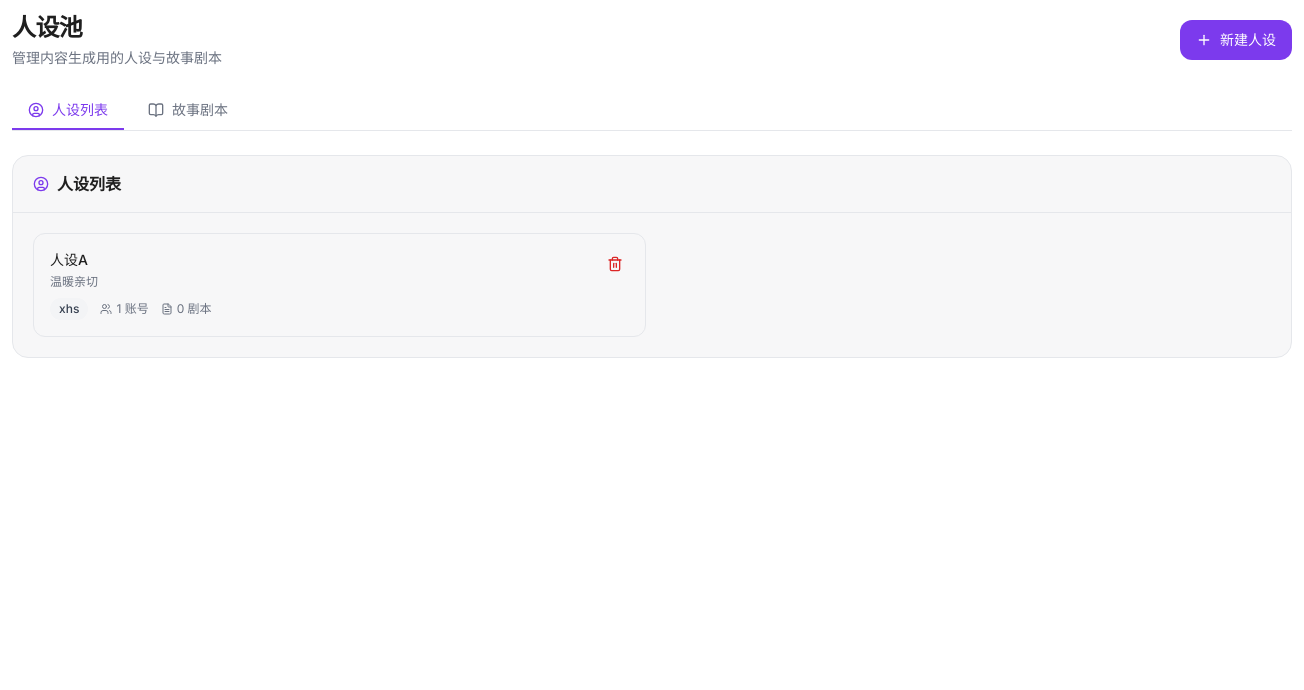
it: PersonasPage › opens newly created story automatically after creation
Click the button "故事剧本" at {"x": 188, "y": 111}, box 132,92 -> 244,130
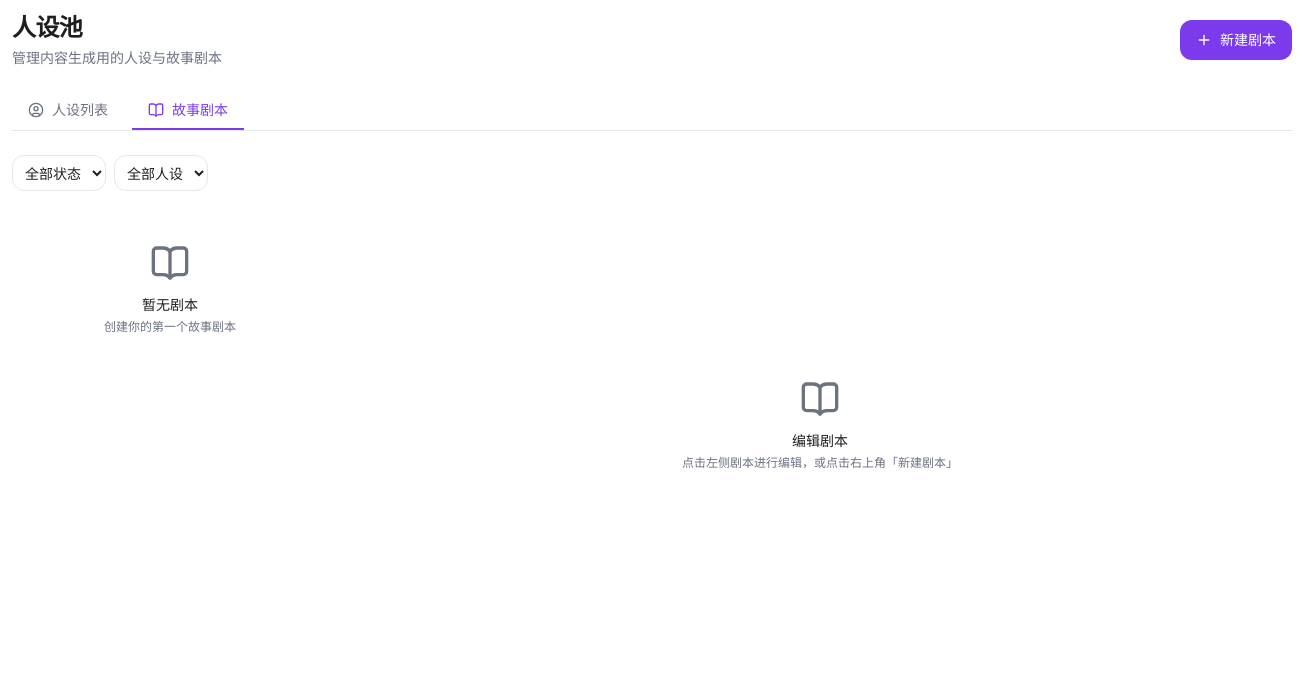
Click the button "新建剧本" at {"x": 1236, "y": 40}, box 1180,20 -> 1292,60
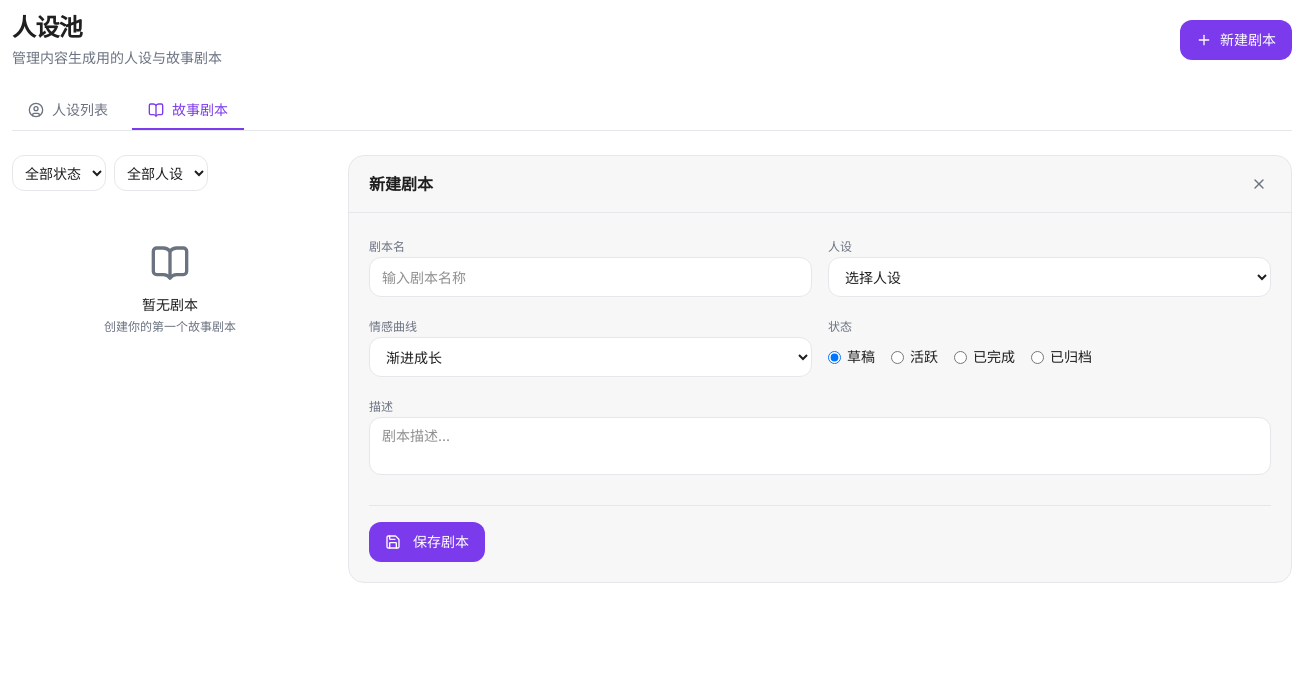
Fill form and save
Type "新剧本" into the field with placeholder "输入剧本名称" at {"x": 590, "y": 277}, box 369,257 -> 812,297
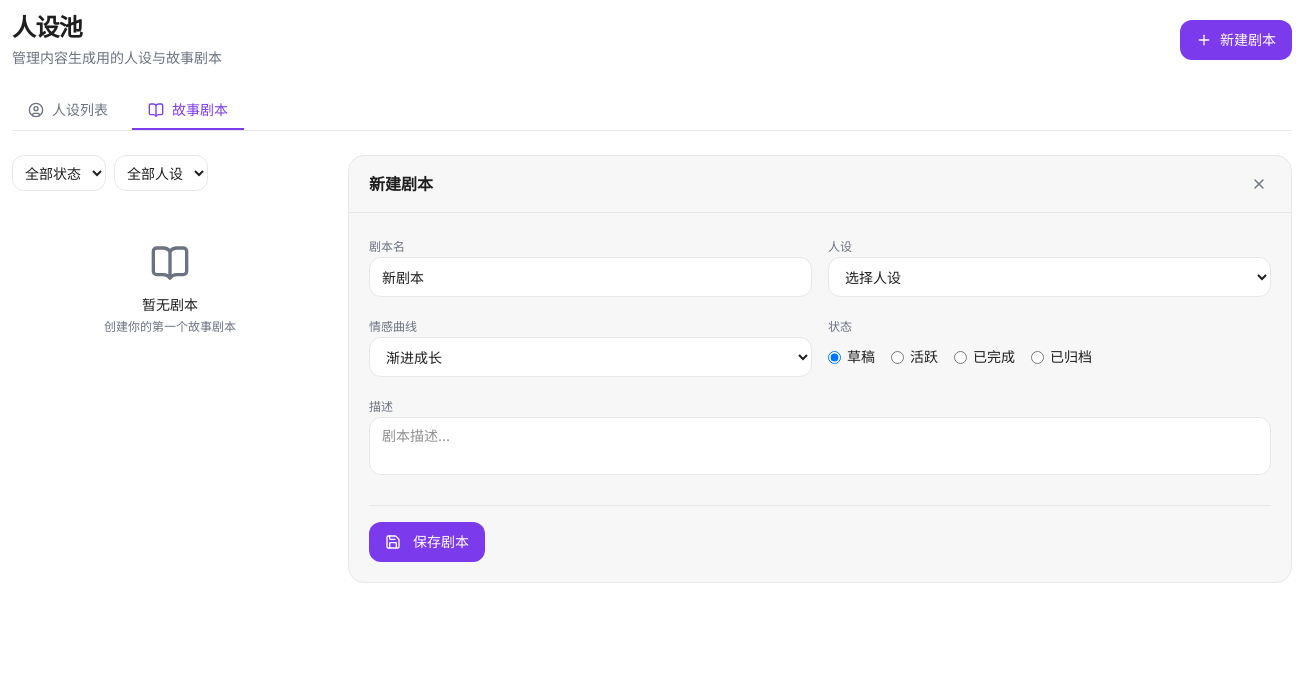
Select "人设A" in the 3rd dropdown showing "选择人设" at {"x": 1050, "y": 277}, box 828,257 -> 1271,297
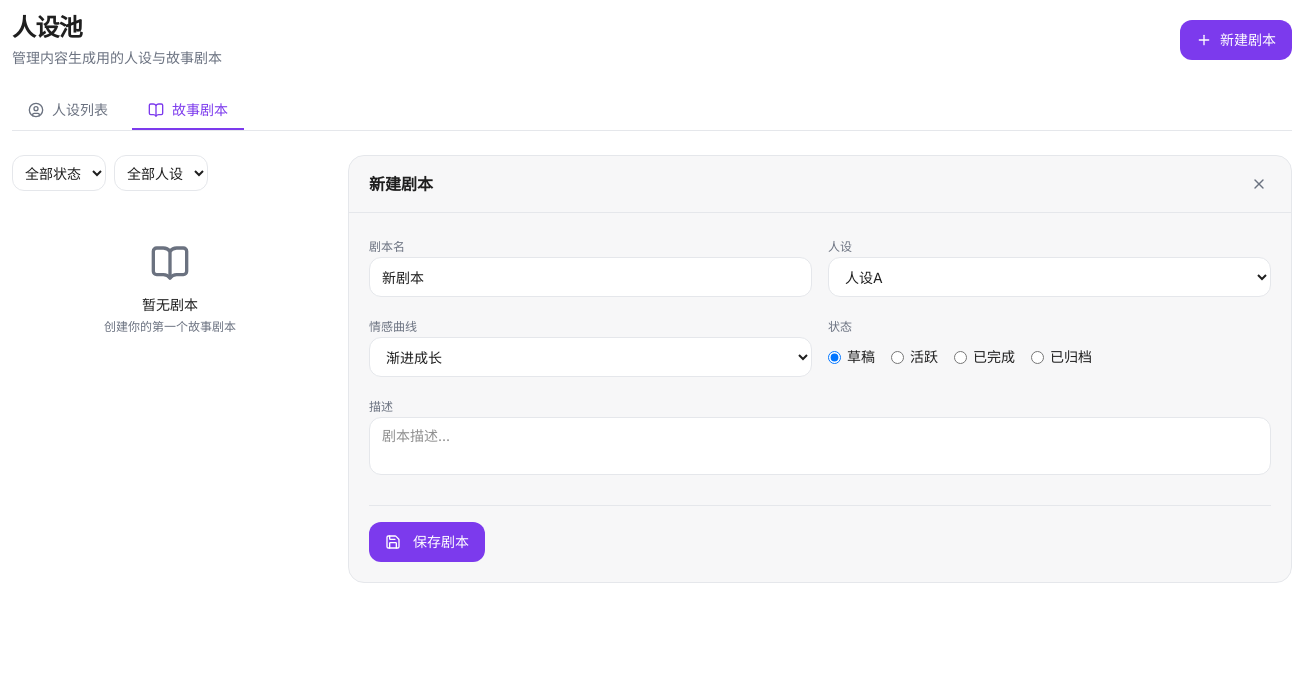
Click the button "保存剧本" at {"x": 427, "y": 542}, box 369,522 -> 485,562
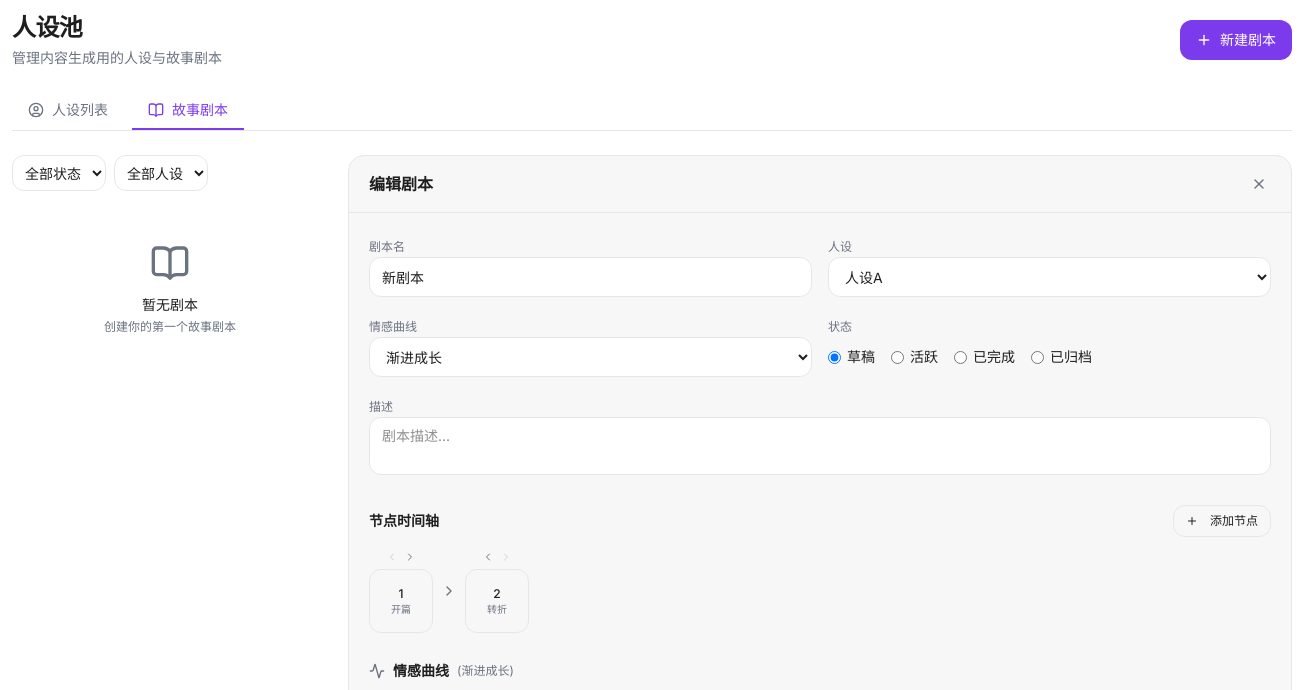
Check: the heading "节点时间轴" is shown, box 369,511 -> 439,531
